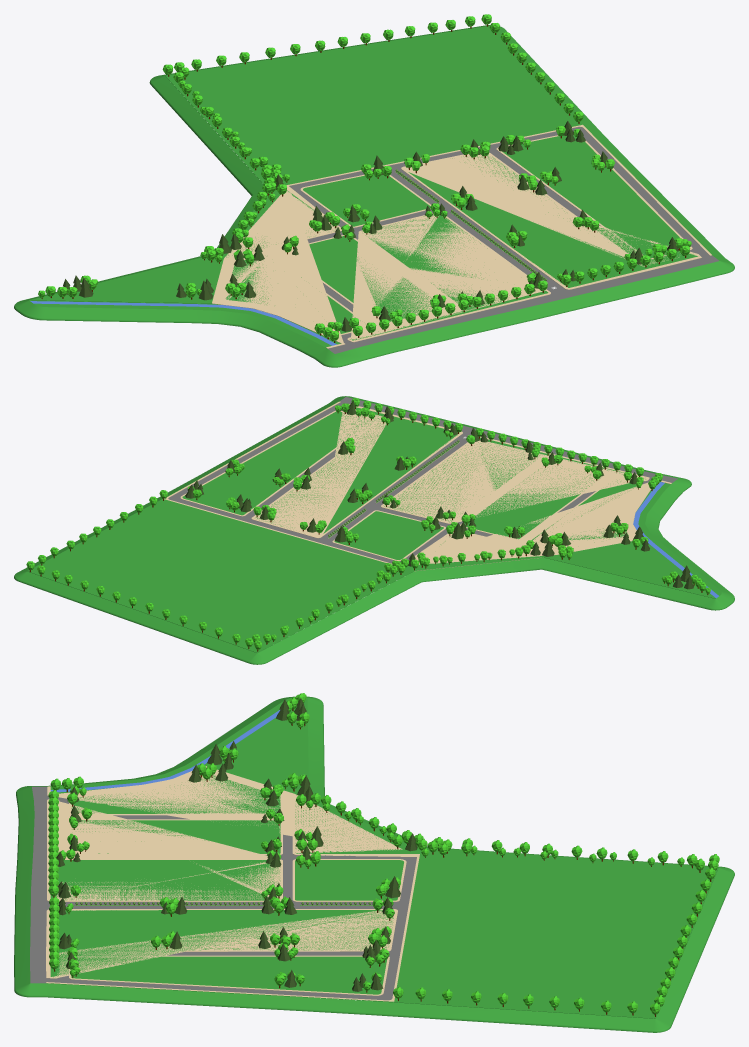
The model's file is New Township Map.obj.
3 renders of one model, top to bottom at view 1: azimuth 30°, elevation 25°; view 2: azimuth 150°, elevation 25°; view 3: azimuth 270°, elevation 25°, orthographic. The views are drawn at different scales.
Parts seen in each view (by area): view 1: Mesh508 Model, Mesh507 Component_12_1 Model; view 2: Mesh508 Model, Mesh507 Component_12_1 Model; view 3: Mesh508 Model, Mesh507 Component_12_1 Model.
Part boxes in pixels (x1=…): Mesh508 Model: x1=14, y1=25, x2=734, y2=367; Mesh507 Component_12_1 Model: x1=29, y1=254, x2=224, y2=303; Mesh508 Model: x1=14, y1=396, x2=734, y2=664; Mesh507 Component_12_1 Model: x1=544, y1=541, x2=715, y2=598; Mesh508 Model: x1=14, y1=696, x2=734, y2=1032; Mesh507 Component_12_1 Model: x1=205, y1=697, x2=308, y2=794.
Bounding box in the file's own units: 496 × 19.61 × 451.
